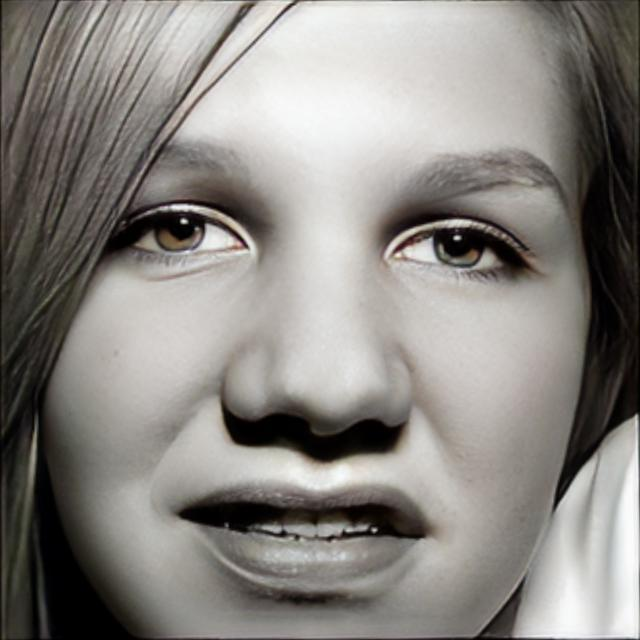disgust: (41, 0, 592, 640)
